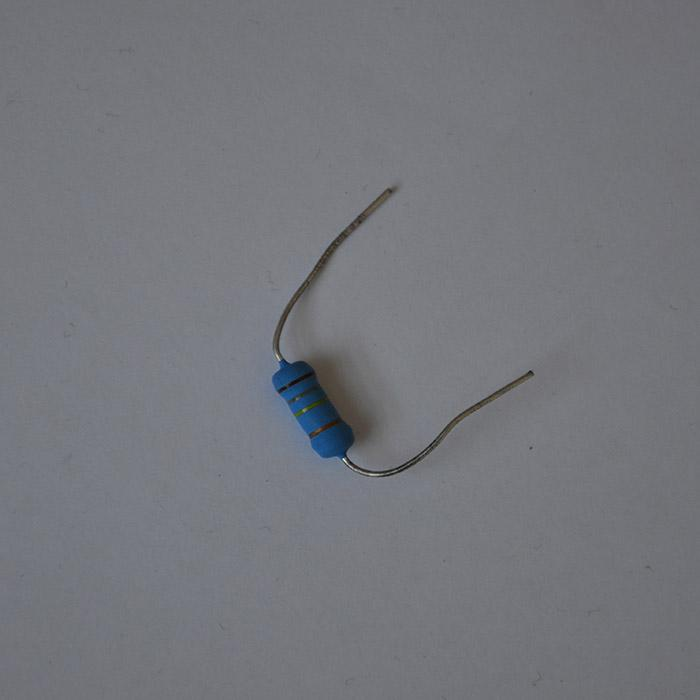resistor: (271, 356, 355, 460)
